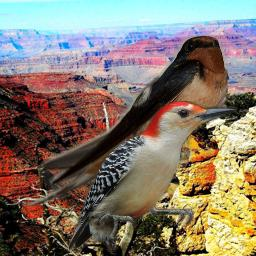Swallow: (18, 35, 228, 206)
Woodpecker: (66, 101, 237, 252)
